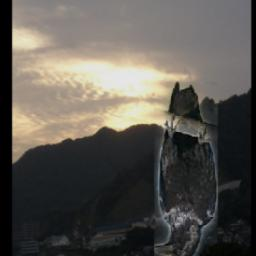Crow: (154, 82, 218, 256)
